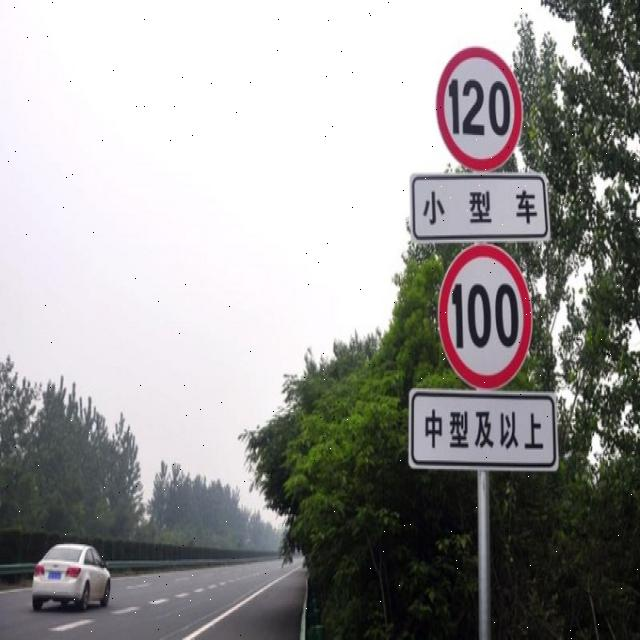speed limit 100: (438, 243, 532, 391)
speed limit 120: (436, 47, 525, 173)
